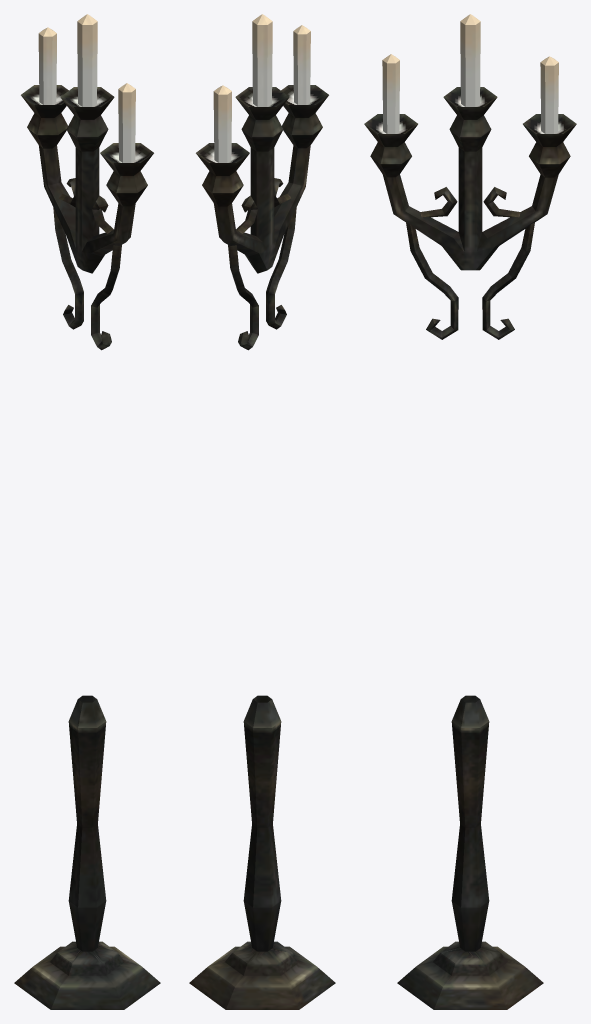
File: Bat_hallowCandle.obj
3 views of the same model, side by side, from view 1: azimuth 30°, elevation 25°; view 2: azimuth 150°, elevation 25°; view 3: azimuth 270°, elevation 25° (orthographic).
Visible parts, largest first — view 1: Bat_hallowCandle_tri; view 2: Bat_hallowCandle_tri; view 3: Bat_hallowCandle_tri.
Boxes of the visible parts, left/top/right/bottom form: Bat_hallowCandle_tri: left=14, top=14, right=160, bottom=1009; Bat_hallowCandle_tri: left=189, top=14, right=335, bottom=1009; Bat_hallowCandle_tri: left=364, top=14, right=576, bottom=1009.
Bounding box in the file's own units: 0.1285 × 1.08 × 0.215.
Materials: 1 (1 with a texture image).
